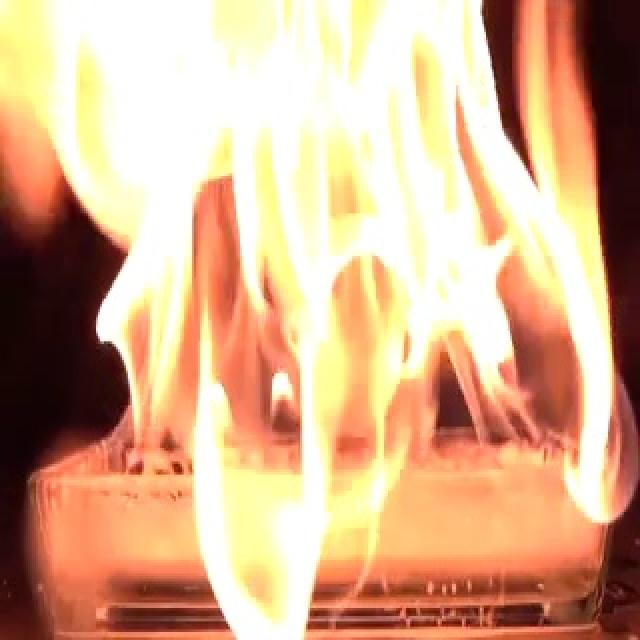fire: (59, 2, 640, 640)
